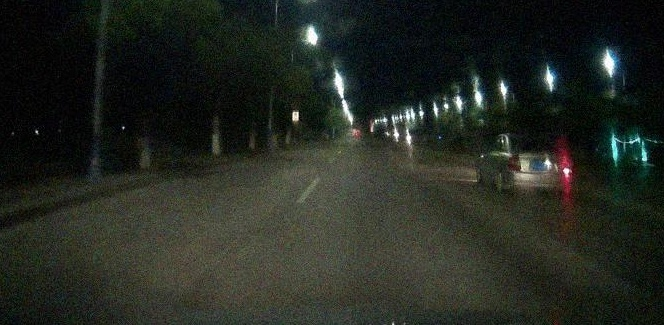L_light: (509, 157, 521, 171)
R_light: (559, 158, 571, 173)
T_light: (530, 139, 538, 142)
night-right: (507, 134, 572, 196)
